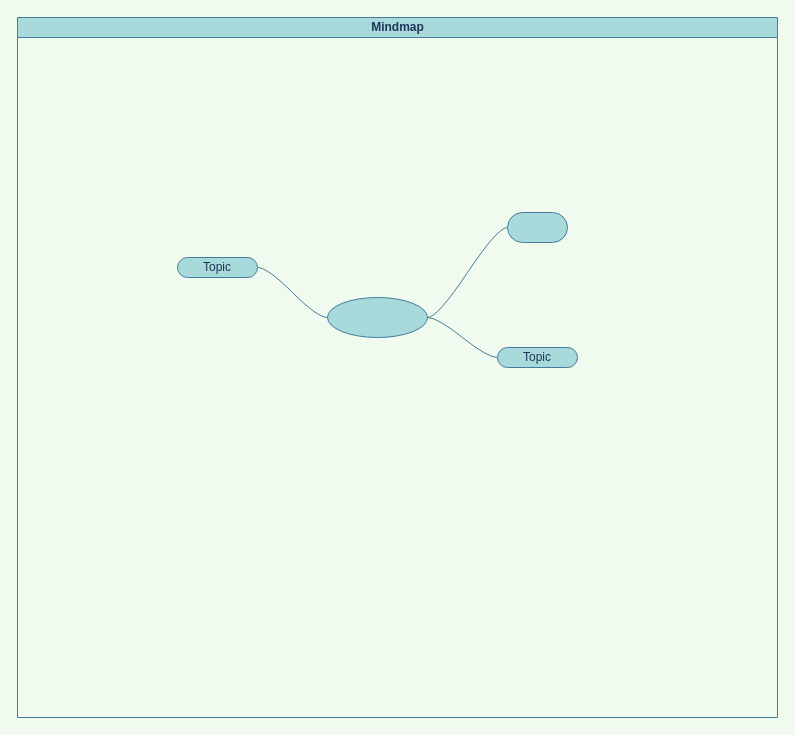
This 795x735 diagram has some shape labels left out. Here are the shapes that lost their labels. From the top down, the box of each, then its label:
(506, 212, 568, 242): car
(326, 296, 428, 338): ifix
